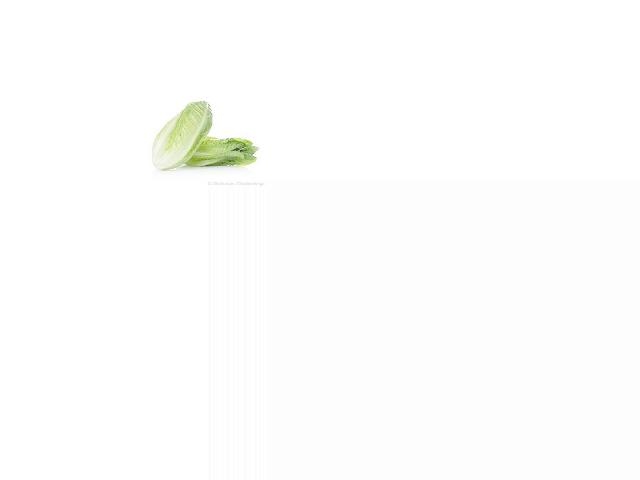lettuce: (185, 129, 257, 176)
